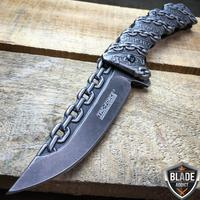knife: (5, 12, 182, 196)
